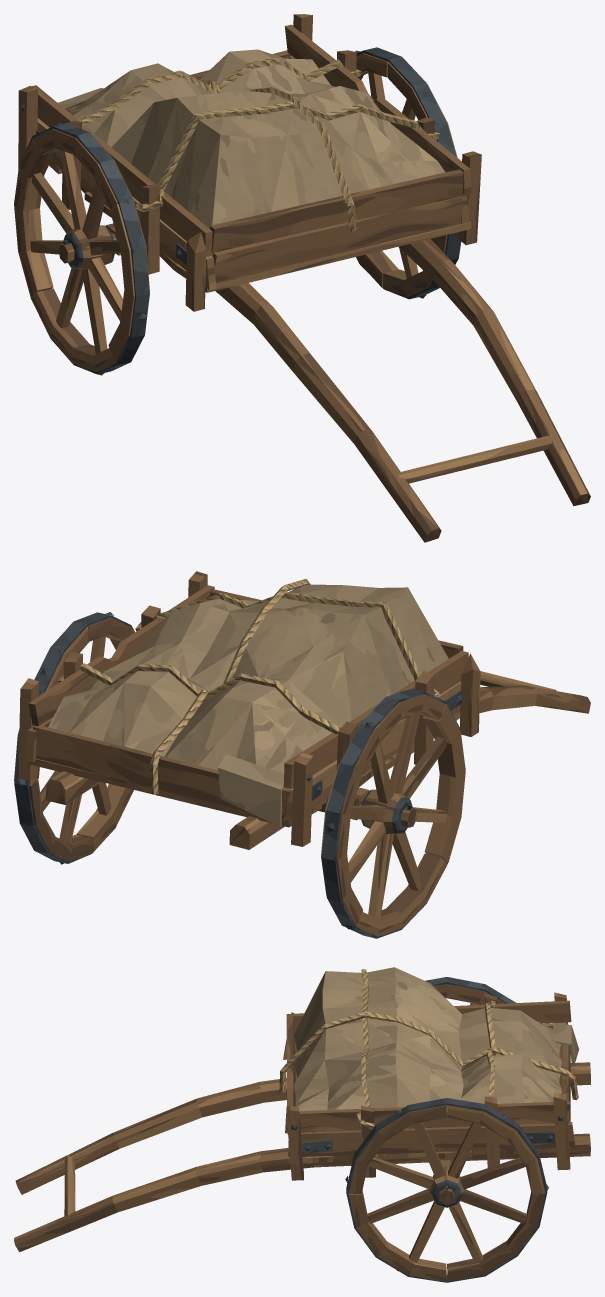
File: SM_SupplyCart.fbx
3 views of the same model, one above another, from view 1: azimuth 30°, elevation 25°; view 2: azimuth 150°, elevation 25°; view 3: azimuth 270°, elevation 25° (orthographic). The views are drawn at different scales.
Parts seen in each view (by area): view 1: SM_SupplyCart; view 2: SM_SupplyCart; view 3: SM_SupplyCart.
Part boxes in pixels (x1=…): SM_SupplyCart: x1=14, y1=14, x2=590, y2=542; SM_SupplyCart: x1=14, y1=571, x2=590, y2=938; SM_SupplyCart: x1=14, y1=967, x2=590, y2=1282.
Bounding box in the file's own units: 1.59 × 1.2 × 2.88.
